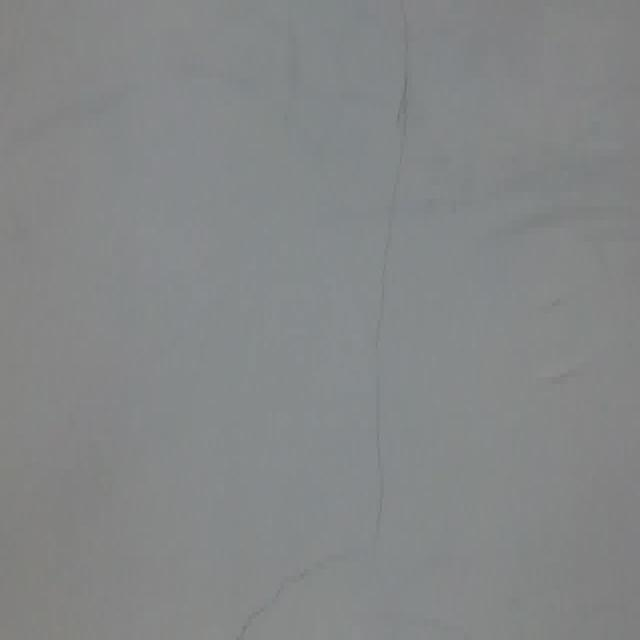Crack: (238, 0, 416, 640)
